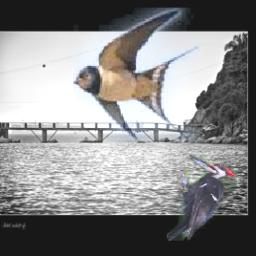Swallow: (73, 9, 200, 141)
Woodpecker: (166, 155, 236, 241)
